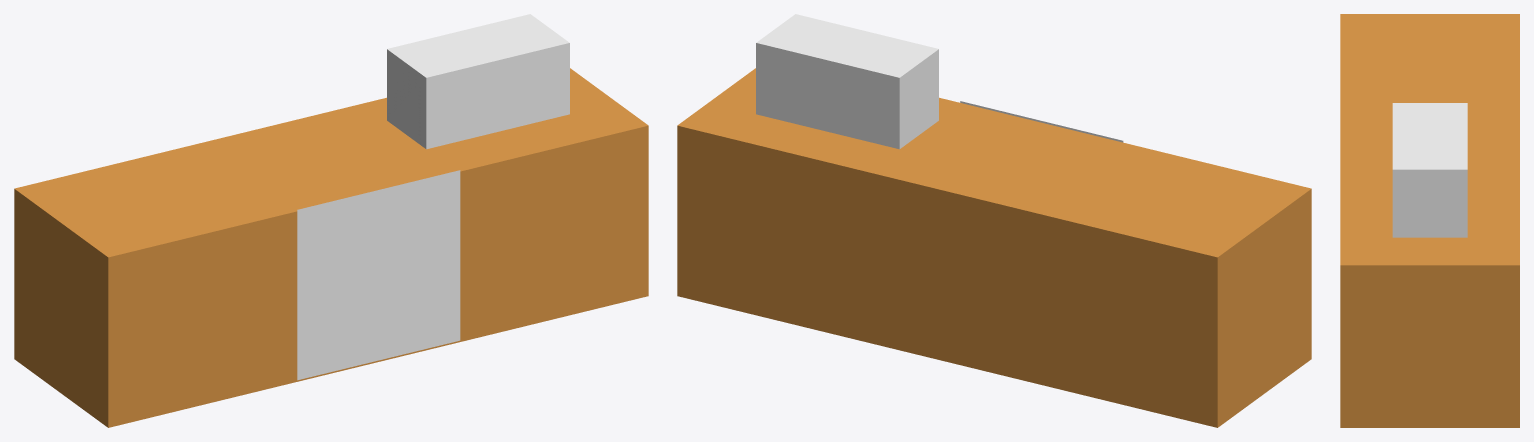
Rendered from Kich.gltf.
The picture shows the model from 3 angles, left to right: view 1: azimuth 30°, elevation 25°; view 2: azimuth 150°, elevation 25°; view 3: azimuth 270°, elevation 25°; orthographic projection. The views are drawn at different scales.
Parts seen in each view (by area): view 1: Cube.001, Plane, microvawe; view 2: Cube.001, microvawe; view 3: Cube.001, microvawe.
Boxes of the visible parts, x1,y1,x2,y2 form: Cube.001: [14, 68, 648, 427]; Plane: [297, 170, 460, 380]; microvawe: [387, 14, 569, 149]; Cube.001: [677, 68, 1311, 427]; microvawe: [756, 14, 938, 149]; Cube.001: [1340, 14, 1519, 427]; microvawe: [1392, 103, 1467, 237].
Bounding box in the file's own units: 6.63 × 2.88 × 2.
